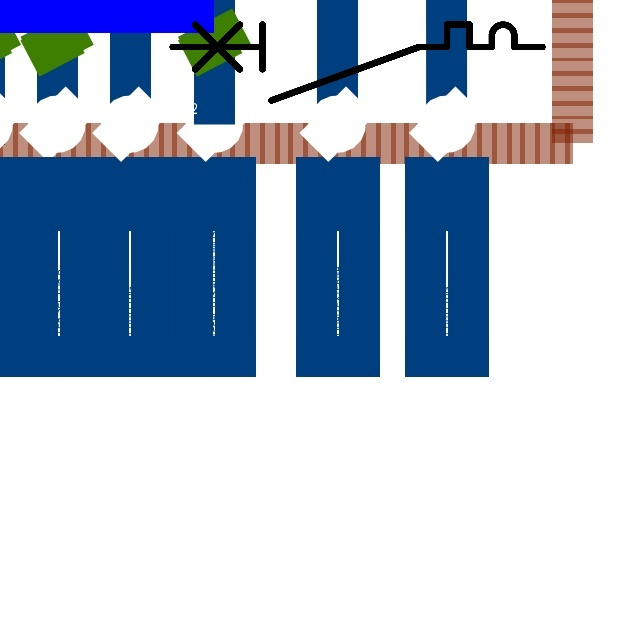interruptor_termomagnetico: (163, 15, 552, 110)
